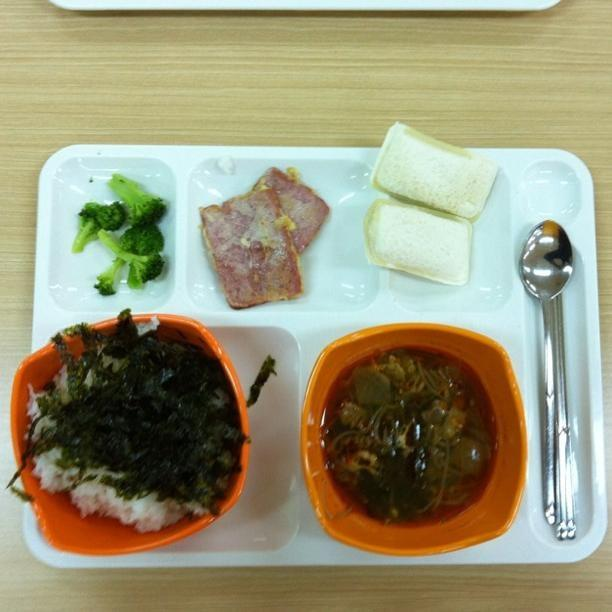broccoli: (97, 228, 165, 284), (106, 174, 168, 230), (119, 224, 164, 256), (84, 200, 126, 231), (94, 257, 124, 295)
